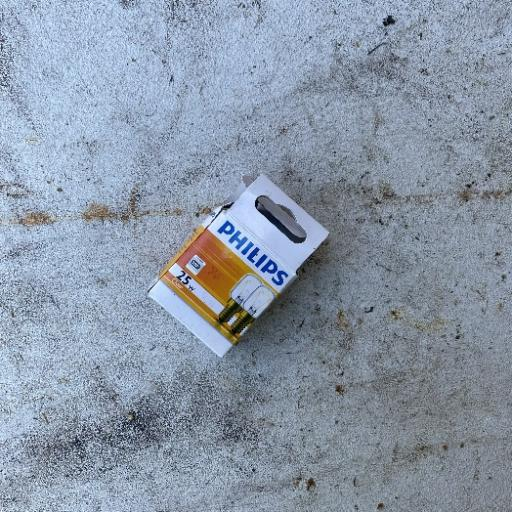Cardboard: (145, 172, 330, 360)
